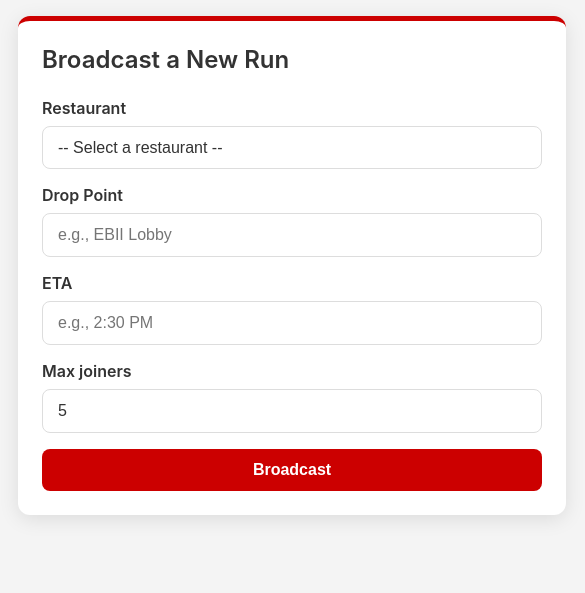
it: Broadcast Page Unit Tests (Extended) › shows error when restaurant and ETA are missing
Click the button "Broadcast".
click(292, 470)  # box [42,449,542,491]
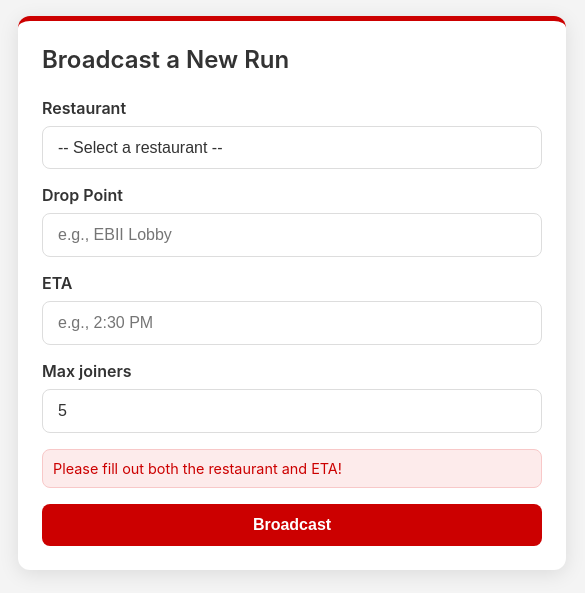
expect the text "Please fill out both the restaurant and ETA!" is shown: met, box [42,449,542,488]
